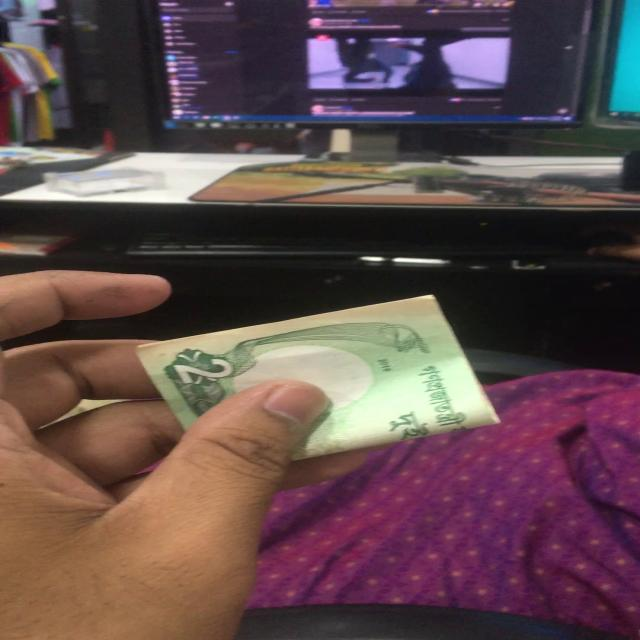Taka: (139, 317, 516, 443)
